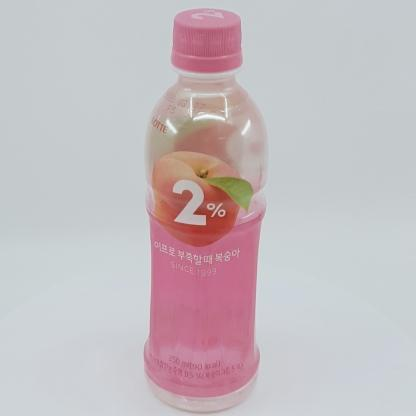--2_---350ML: (143, 8, 269, 414)
